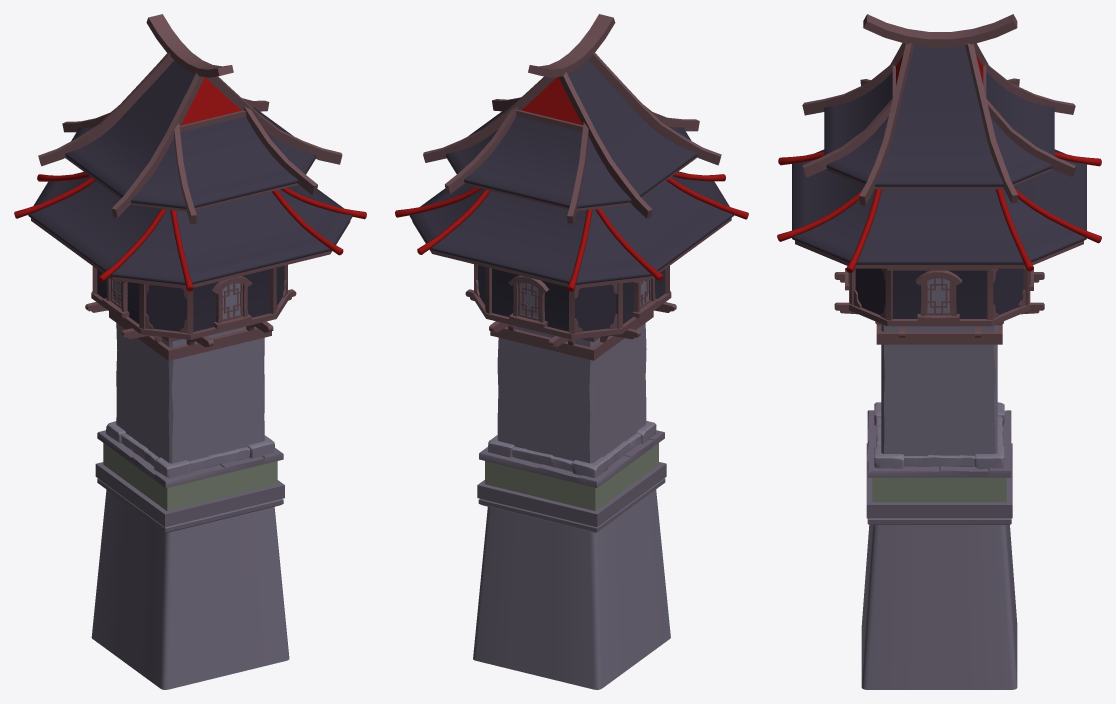
The model's file is tower_02.fbx.
The picture shows the model from 3 angles, left to right: view 1: azimuth 30°, elevation 25°; view 2: azimuth 150°, elevation 25°; view 3: azimuth 270°, elevation 25°; orthographic projection. The views are drawn at different scales.
Visible parts, largest first — view 1: tower_02; view 2: tower_02; view 3: tower_02.
Part boxes in pixels (left/top/right/bottom): tower_02: left=14, top=14, right=366, bottom=689; tower_02: left=395, top=14, right=748, bottom=689; tower_02: left=777, top=14, right=1101, bottom=689.
Bounding box in the file's own units: 1086 × 2355 × 1084.
